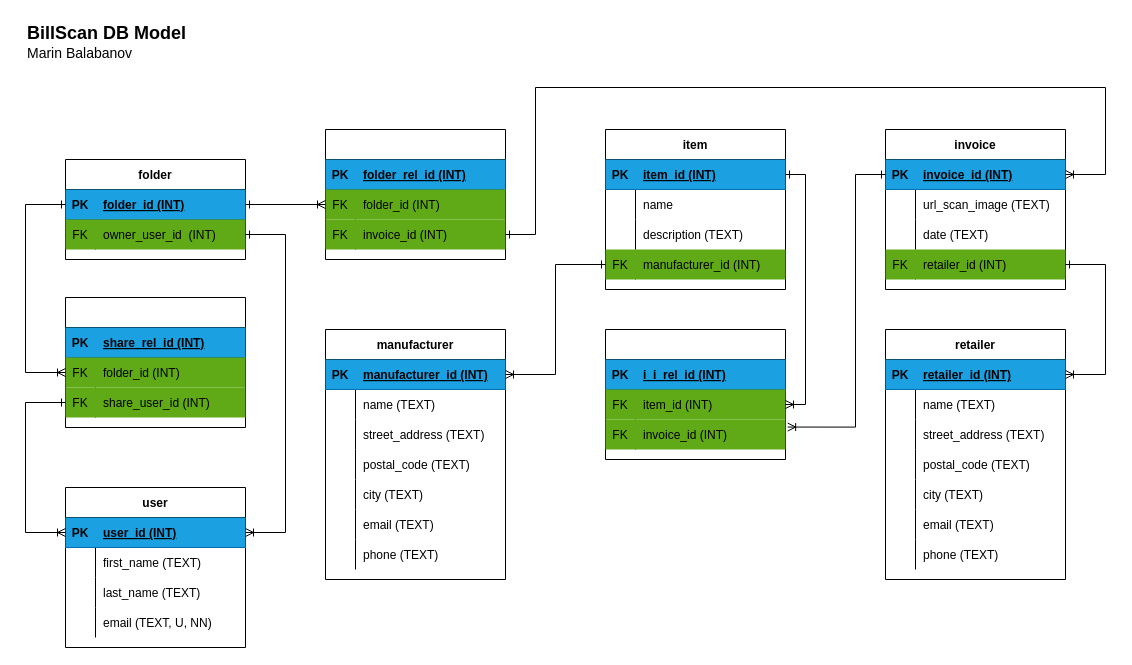
Image size: 1132x665. Some labels were removed from this diagram. The shapes that lost their labels are listed below. From the top down, each one's box as (x1, y1, x2, y2) in pixels, then its label:
(324, 128, 506, 260): folder_invoice_rel
(64, 296, 246, 428): folder_share_rel
(604, 328, 786, 460): item_invoice_rel
